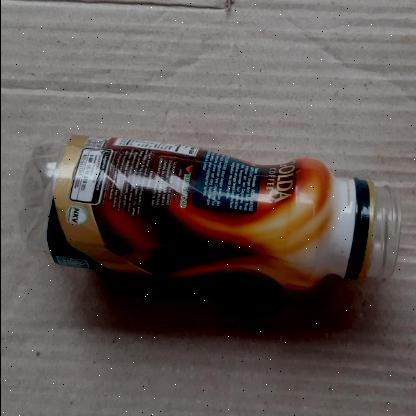Plastic Bottle: (20, 131, 402, 293)
